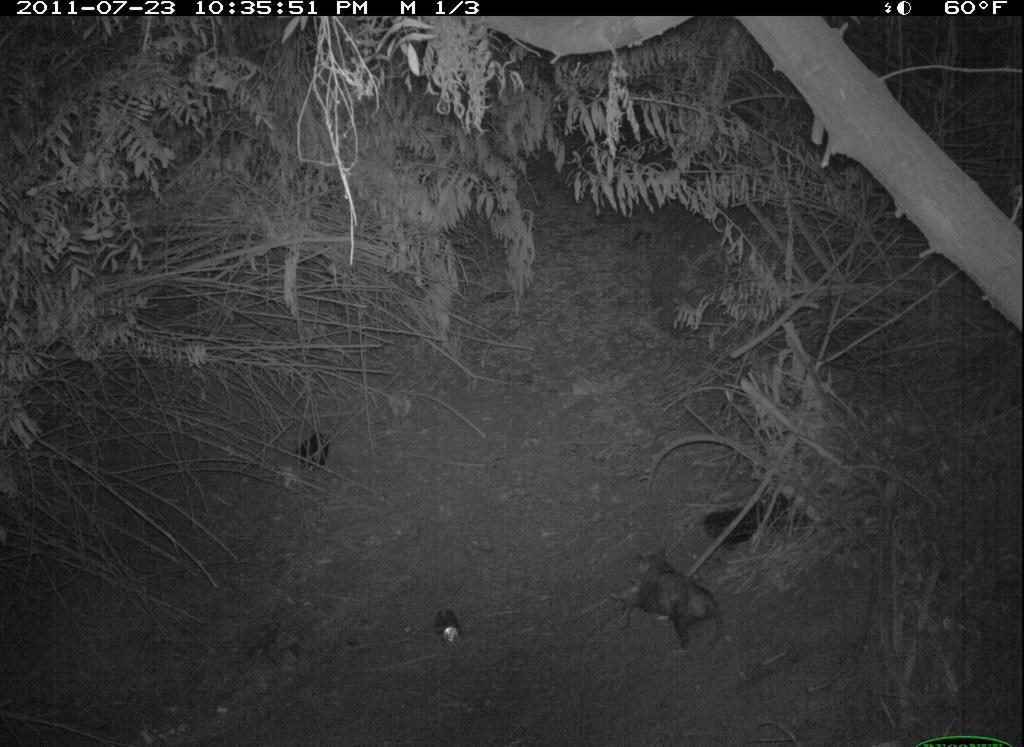opossum: (617, 542, 730, 661)
